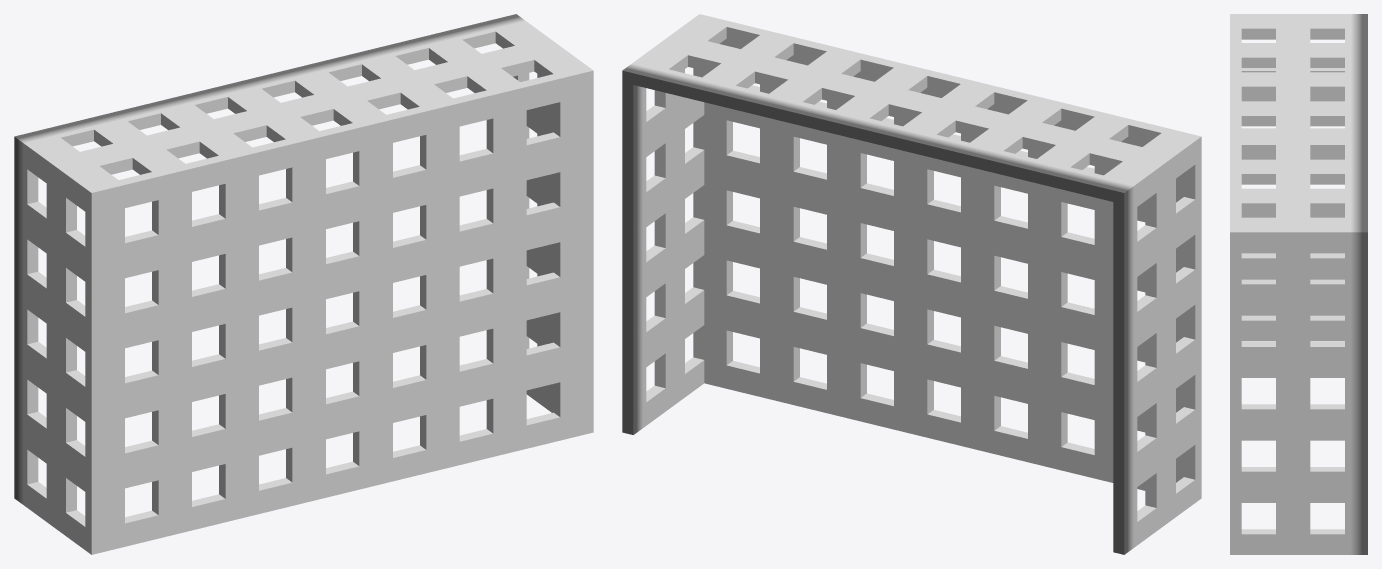
The model's file is goal.fbx.
The picture shows the model from 3 angles, left to right: view 1: azimuth 30°, elevation 25°; view 2: azimuth 150°, elevation 25°; view 3: azimuth 270°, elevation 25°; orthographic projection. The views are drawn at different scales.
Parts seen in each view (by area): view 1: Matrix_11; view 2: Matrix_11; view 3: Matrix_11.
Part boxes in pixels (x1,y1,x2,y2): Matrix_11: (14, 14, 593, 554); Matrix_11: (622, 14, 1201, 554); Matrix_11: (1230, 14, 1367, 554).
Bounding box in the file's own units: 45 × 31 × 12.
